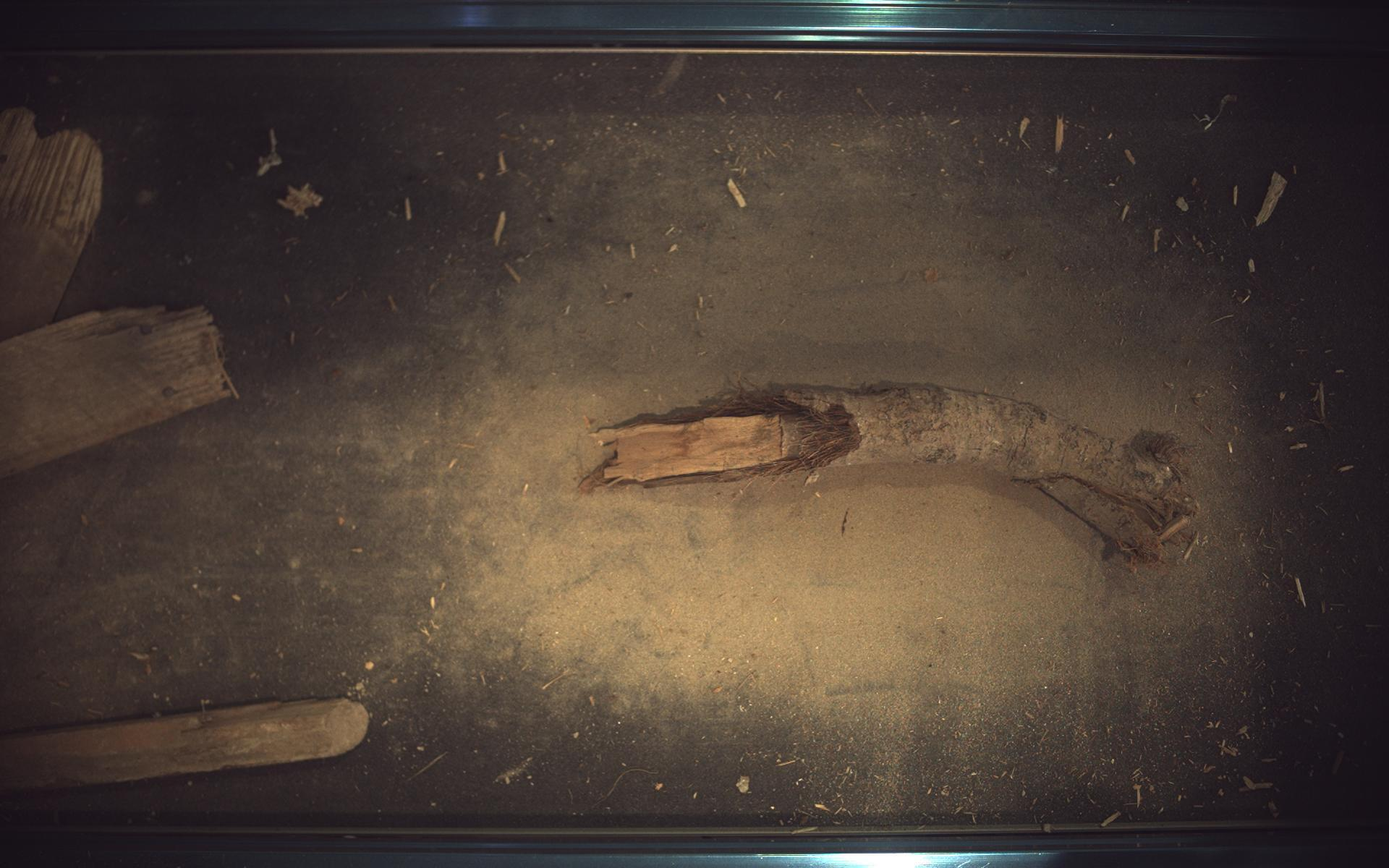wood: (580, 385, 1200, 562)
